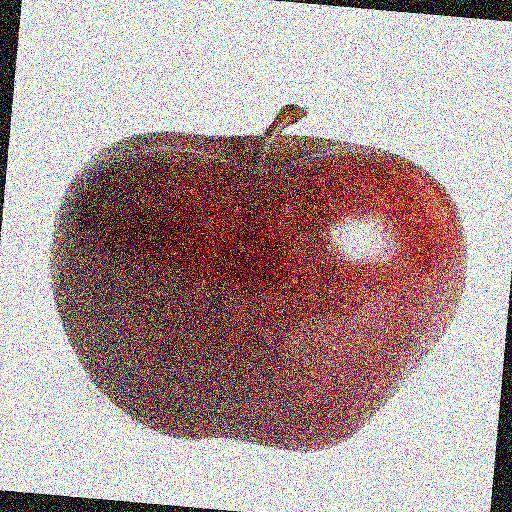fruit: (409, 146, 505, 476)
